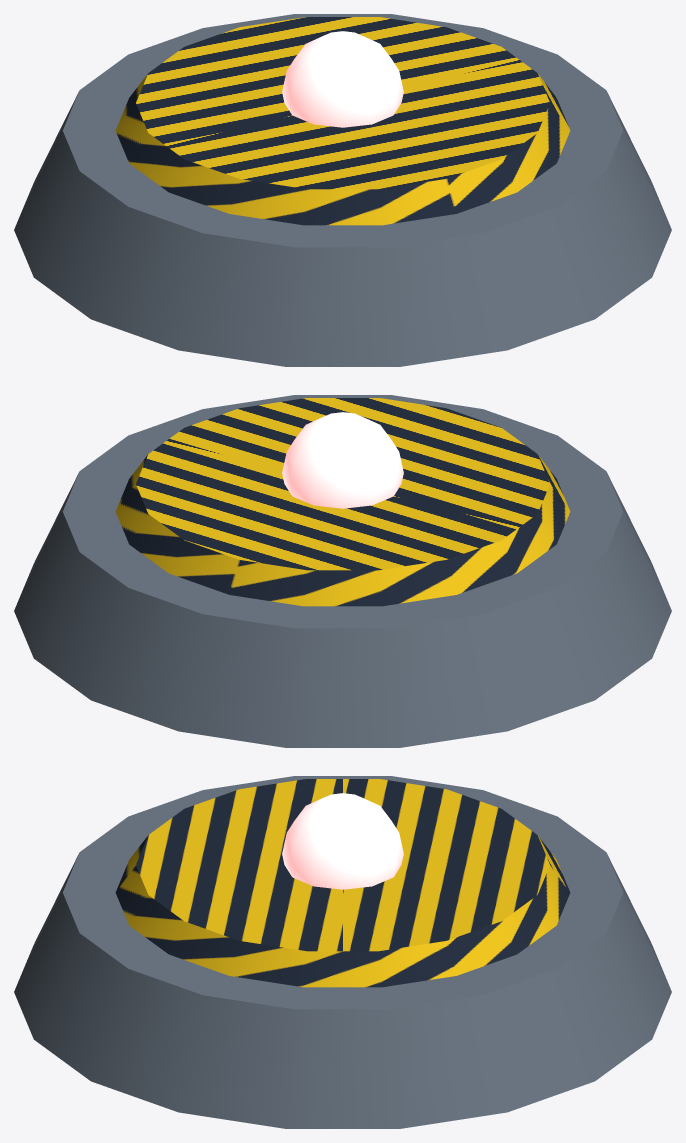
File: mine_proximity_disc.glb
The picture shows the model from 3 angles, top to bottom: view 1: azimuth 30°, elevation 25°; view 2: azimuth 150°, elevation 25°; view 3: azimuth 270°, elevation 25°; orthographic projection.
Visible parts, largest first — view 1: mine_proximity_disc; view 2: mine_proximity_disc; view 3: mine_proximity_disc.
Part boxes in pixels (box(x1,y1,x2,y2)): mine_proximity_disc: box(14, 14, 671, 366); mine_proximity_disc: box(14, 395, 671, 747); mine_proximity_disc: box(14, 776, 671, 1128).
Size of the model in its own units: 1.06 by 0.35 by 1.08.
3 materials, 1 textured.
